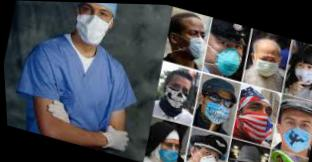OK: (71, 3, 116, 49), (235, 100, 279, 144), (272, 111, 312, 157), (204, 35, 245, 77), (171, 23, 210, 62), (198, 89, 233, 126), (160, 77, 190, 111), (251, 48, 282, 78), (154, 136, 183, 162), (290, 58, 312, 89), (191, 148, 220, 162), (229, 157, 258, 162)
